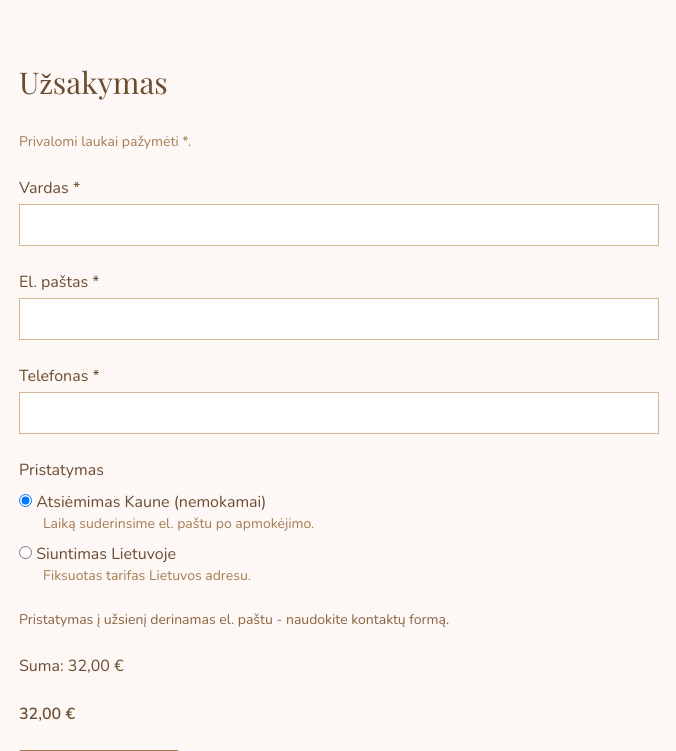
Scenario: Checkout › marks address fields as mandatory when shipping is selected
The width and height of the screenshot is (676, 751).
Click the radio button labelled "Siuntimas Lietuvoje".
click(26, 552)  # box [19,546,32,559]
(page scrolled)
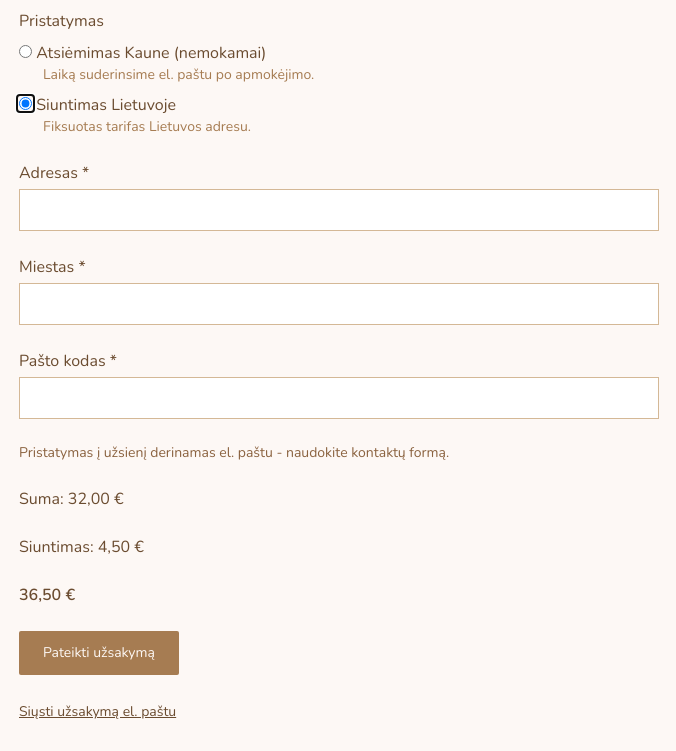
Check: the label labelled "Adresas *" is shown, box [19,161,659,231]
Check: the label labelled "Miestas *" is shown, box [19,255,659,325]
Check: the label labelled "Pašto kodas *" is shown, box [19,349,659,419]
